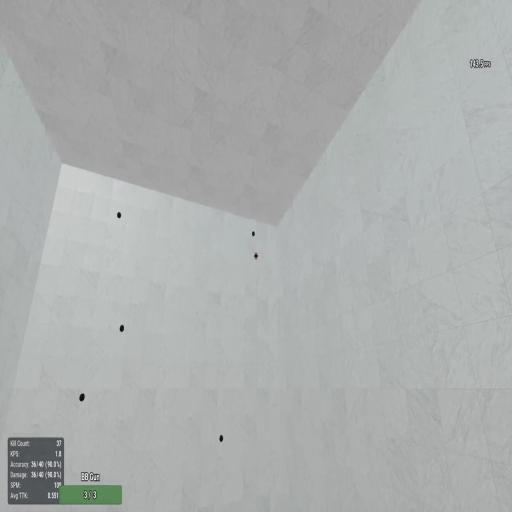Target: (79, 391, 85, 404), (119, 322, 125, 334), (115, 210, 122, 220), (219, 434, 224, 442), (252, 230, 255, 236)
